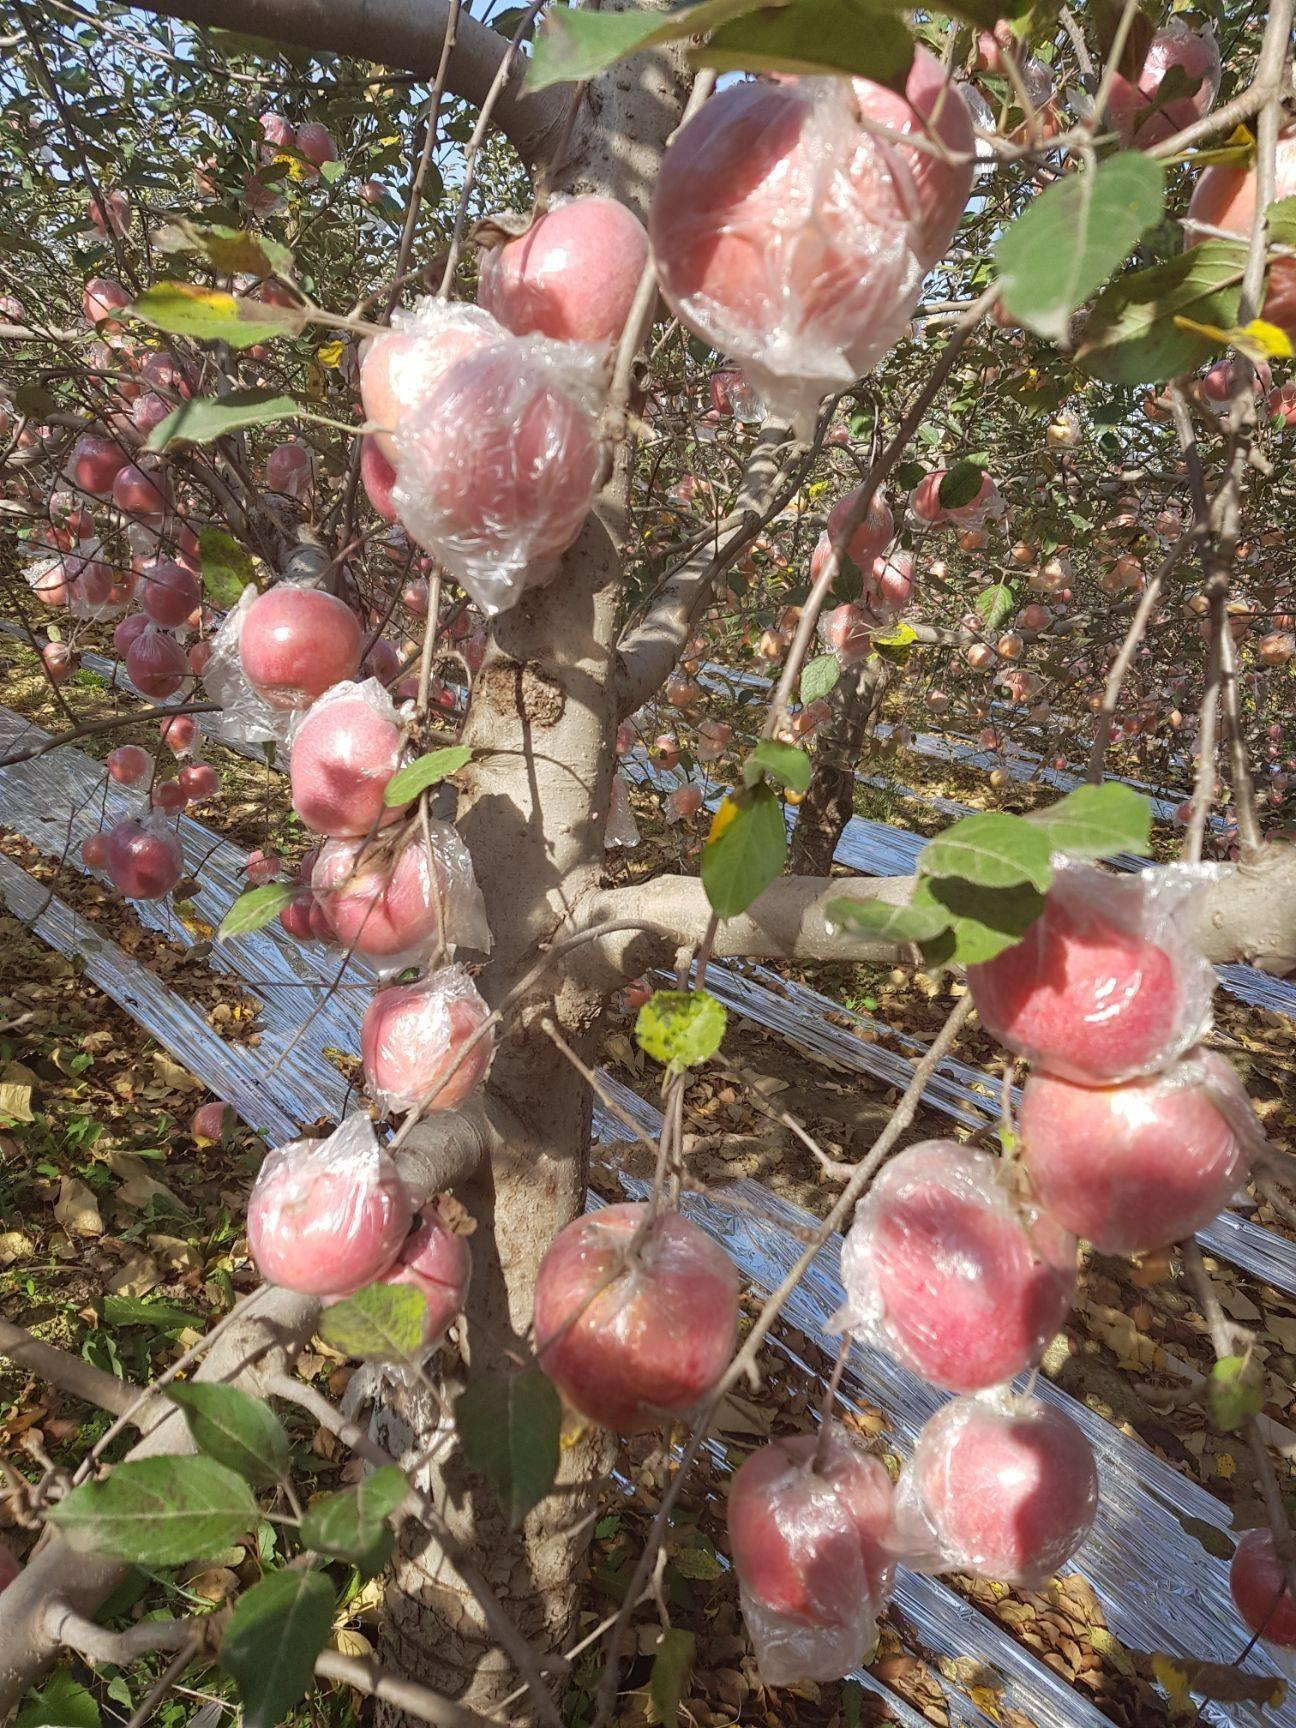apple: (285, 684, 407, 834)
